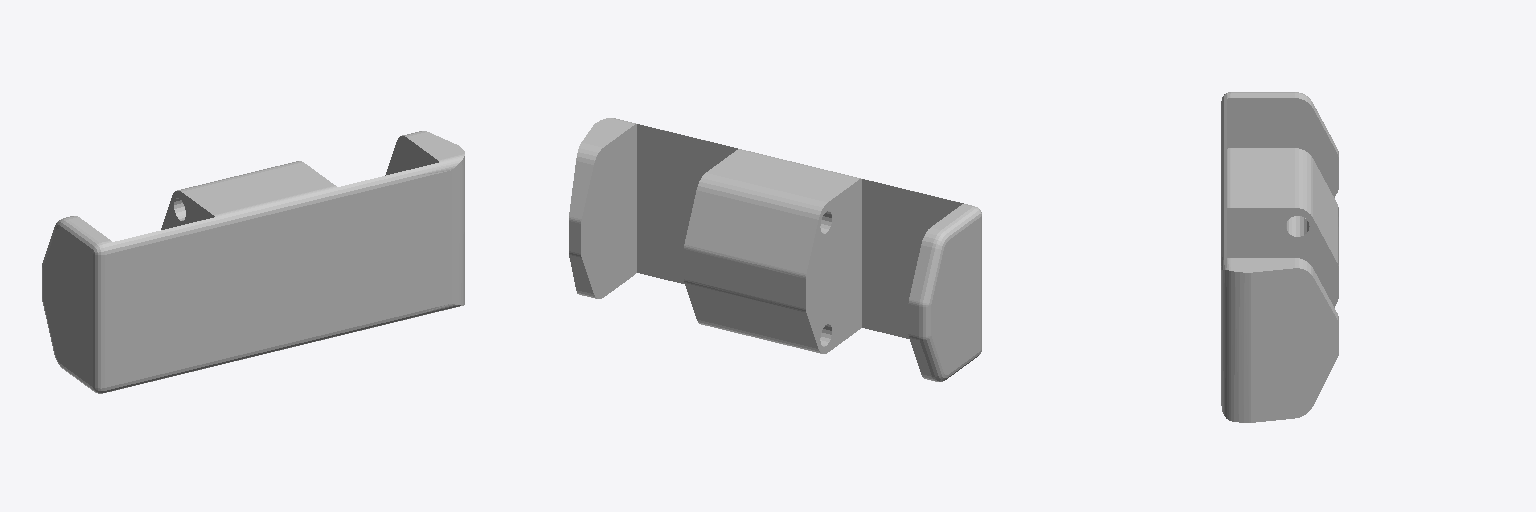
The model's file is trunk_franki.obj.
The picture shows the model from 3 angles: view 1: azimuth 30°, elevation 25°; view 2: azimuth 150°, elevation 25°; view 3: azimuth 270°, elevation 25°; orthographic projection.
Parts seen in each view (by area): view 1: Body1; view 2: Body1; view 3: Body1.
Part boxes in pixels (x1,y1,x2,y2): Body1: (42, 131, 464, 393); Body1: (569, 118, 981, 381); Body1: (1221, 92, 1338, 422).
Bounding box in the file's own units: 0.734 × 0.28 × 0.198.